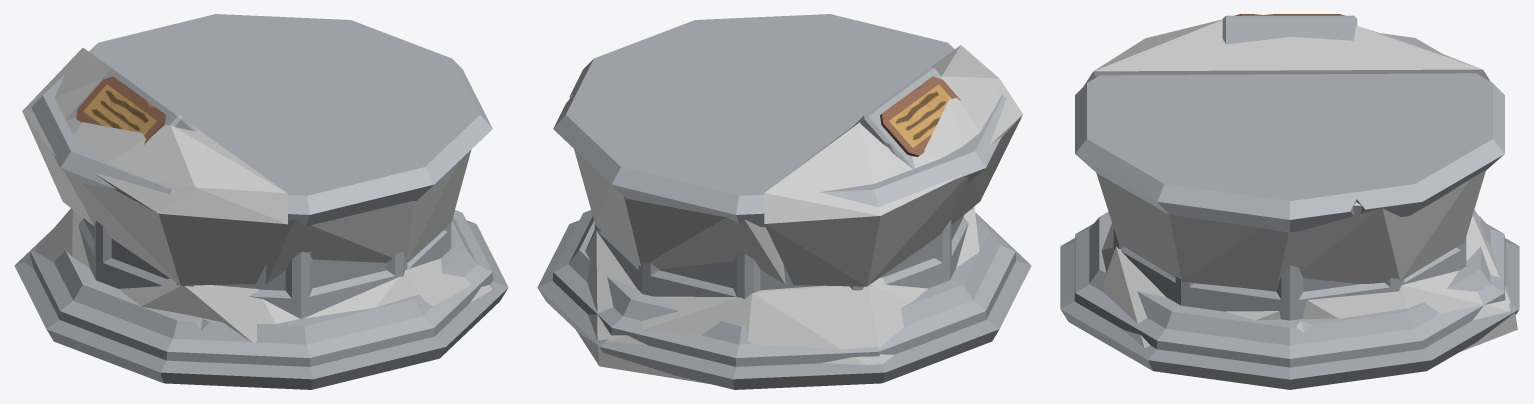
The model's file is SM_Prop_Statue_Plinth_03.fbx.
3 views of the same model, side by side, from view 1: azimuth 30°, elevation 25°; view 2: azimuth 150°, elevation 25°; view 3: azimuth 270°, elevation 25° (orthographic). The views are drawn at different scales.
Parts seen in each view (by area): view 1: SM_Prop_Statue_Plinth_03, SM_Prop_Statue_Plinth_03_ConvexHulls; view 2: SM_Prop_Statue_Plinth_03, SM_Prop_Statue_Plinth_03_ConvexHulls; view 3: SM_Prop_Statue_Plinth_03, SM_Prop_Statue_Plinth_03_ConvexHulls.
Part boxes in pixels (x1=…): SM_Prop_Statue_Plinth_03: x1=14, y1=14, x2=508, y2=389; SM_Prop_Statue_Plinth_03_ConvexHulls: x1=22, y1=48, x2=492, y2=342; SM_Prop_Statue_Plinth_03: x1=537, y1=14, x2=1031, y2=389; SM_Prop_Statue_Plinth_03_ConvexHulls: x1=570, y1=45, x2=1022, y2=383; SM_Prop_Statue_Plinth_03: x1=1060, y1=14, x2=1519, y2=389; SM_Prop_Statue_Plinth_03_ConvexHulls: x1=1083, y1=19, x2=1517, y2=352.
Size of the model in its own units: 173 by 164 by 89.59.
2 materials, 1 textured.
